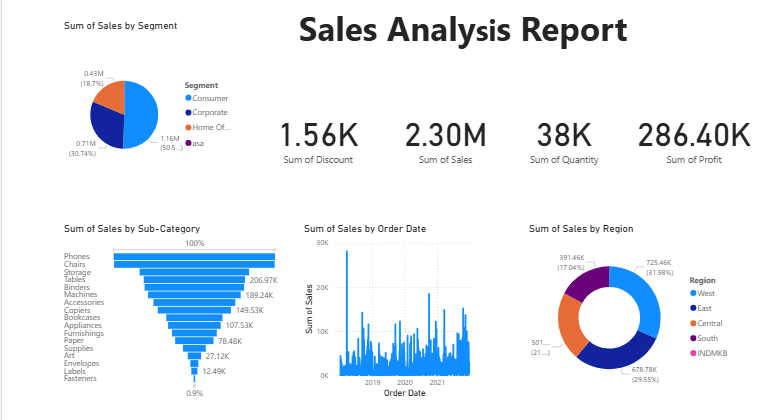

The page's visual inventory and layout, read from the dashboard file:
{"tool":"powerbi","page":{"name":"Page 1","canvas":[1280,720],"ordinal":0},"visuals":[{"type":"donutChart","fields":{"Category":["Sai kumar sales data xlsx - Orders.Region"],"Y":["Sai kumar sales data xlsx - Orders.Sales"]},"box":[880.2,384.7,352.8,300.7],"z":0},{"type":"funnel","fields":{"Category":["Sai kumar sales data xlsx - Orders.Sub-Category"],"Y":["Sai kumar sales data xlsx - Orders.Sales"]},"box":[99.1,384.7,369.6,300.7],"z":1000},{"type":"pieChart","fields":{"Category":["Sai kumar sales data xlsx - Orders.Segment"],"Y":["Sai kumar sales data xlsx - Orders.Sales"]},"box":[99.1,43.7,300.7,300.7],"z":2000},{"type":"lineChart","fields":{"Category":["Sai kumar sales data xlsx - Orders.Order Date"],"Y":["Sai kumar sales data xlsx - Orders.Sales"]},"box":[502.3,384.7,300.7,300.7],"z":3000},{"type":"card","fields":{"Values":["Sai kumar sales data xlsx - Orders.Sales"]},"box":[640,173,210,136.1],"z":4000},{"type":"card","fields":{"Values":["Sai kumar sales data xlsx - Orders.Profit"]},"box":[1056.6,173,211.7,136.1],"z":5000},{"type":"card","fields":{"Values":["Sai kumar sales data xlsx - Orders.Quantity"]},"box":[850,173,188.1,136.1],"z":6000},{"type":"card","fields":{"Values":["Sai kumar sales data xlsx - Orders.Discount"]},"box":[438.4,173,184.8,136.1],"z":7000},{"type":"textbox","box":[300.7,15.1,932.3,112.5],"z":8000}]}

Visuals, with their boxes in screenshot pixels (x1, y1, x2, y2), scaled from the page's 1280x720 canvas onto the 759x420 screenshot:
donutChart - Sai kumar sales data xlsx - Orders.Region x Sai kumar sales data xlsx - Orders.Sales: 522:224:731:400
funnel - Sai kumar sales data xlsx - Orders.Sub-Category x Sai kumar sales data xlsx - Orders.Sales: 59:224:278:400
pieChart - Sai kumar sales data xlsx - Orders.Segment x Sai kumar sales data xlsx - Orders.Sales: 59:25:237:201
lineChart - Sai kumar sales data xlsx - Orders.Order Date x Sai kumar sales data xlsx - Orders.Sales: 298:224:476:400
card - Sai kumar sales data xlsx - Orders.Sales: 380:101:504:180
card - Sai kumar sales data xlsx - Orders.Profit: 627:101:752:180
card - Sai kumar sales data xlsx - Orders.Quantity: 504:101:616:180
card - Sai kumar sales data xlsx - Orders.Discount: 260:101:370:180
textbox: 178:9:731:74
